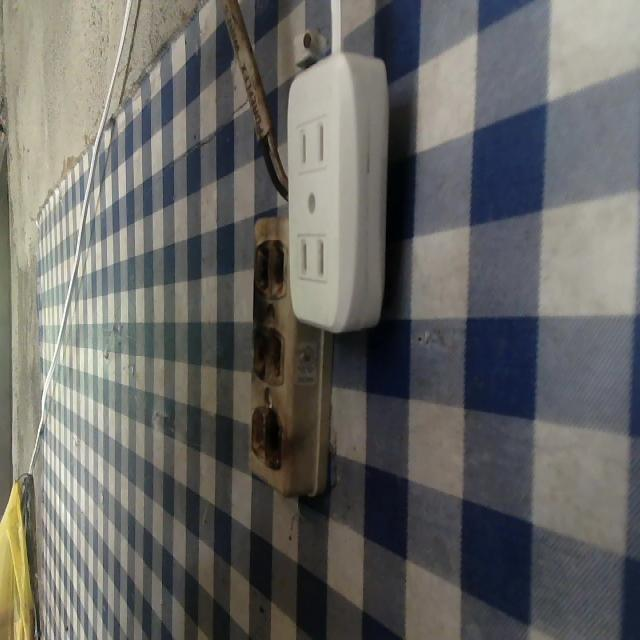-: (245, 402, 285, 474), (248, 314, 287, 386), (252, 225, 289, 291)
